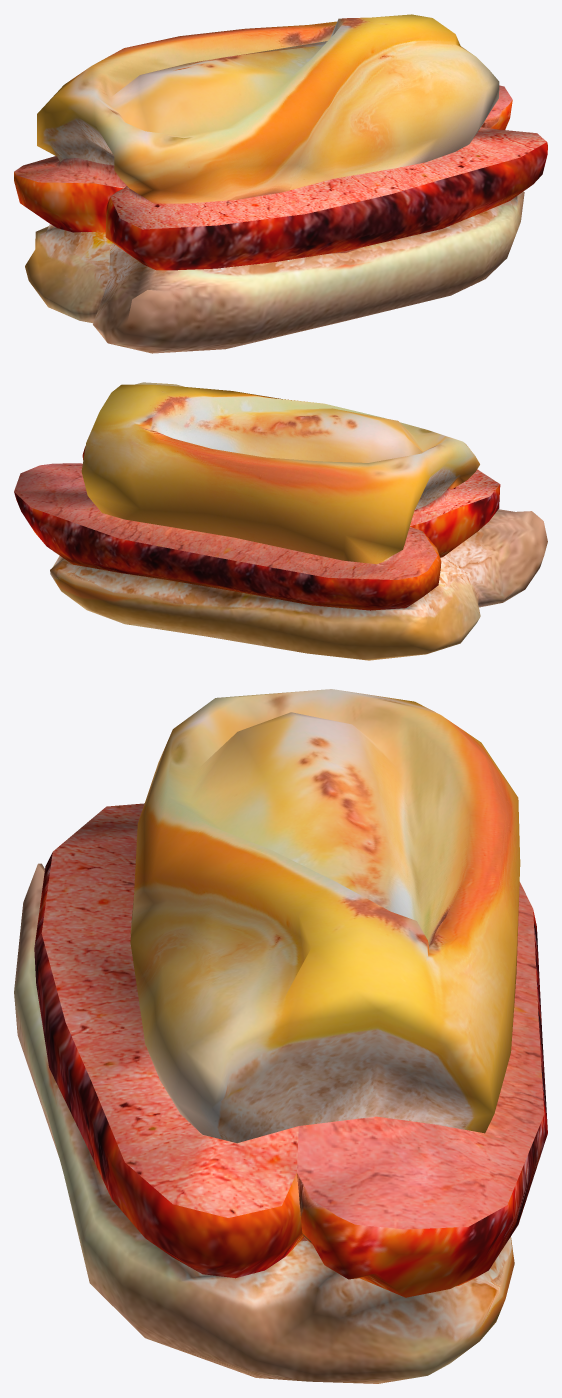
The model's file is choripan.glb.
The picture shows the model from 3 angles, top to bottom: view 1: azimuth 30°, elevation 25°; view 2: azimuth 150°, elevation 25°; view 3: azimuth 270°, elevation 25°; orthographic projection. The views are drawn at different scales.
Visible parts, largest first — view 1: tripo_node_0e568803; view 2: tripo_node_0e568803; view 3: tripo_node_0e568803.
Part boxes in pixels (box(x1,y1,x2,y2)): tripo_node_0e568803: box(14, 14, 547, 353); tripo_node_0e568803: box(14, 382, 547, 660); tripo_node_0e568803: box(14, 689, 547, 1383).
Bounding box in the file's own units: 1.79 × 0.9135 × 1.01.
1 material, 1 textured.
